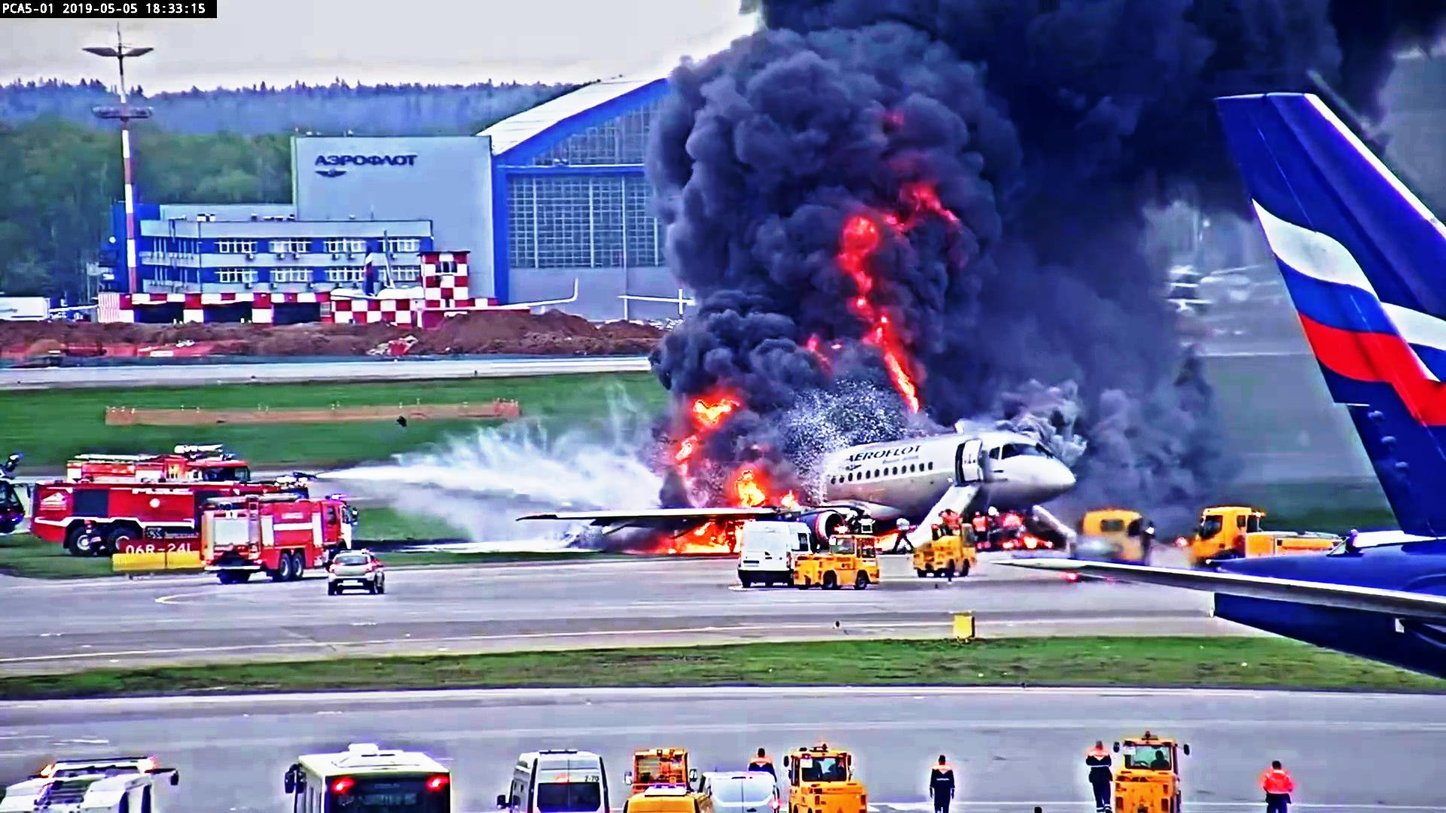smoke: (652, 32, 1020, 312)
